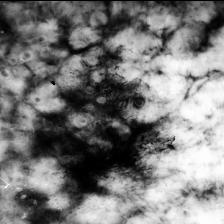Potentially Malignant Skin Tumors: (27, 50, 174, 186)
